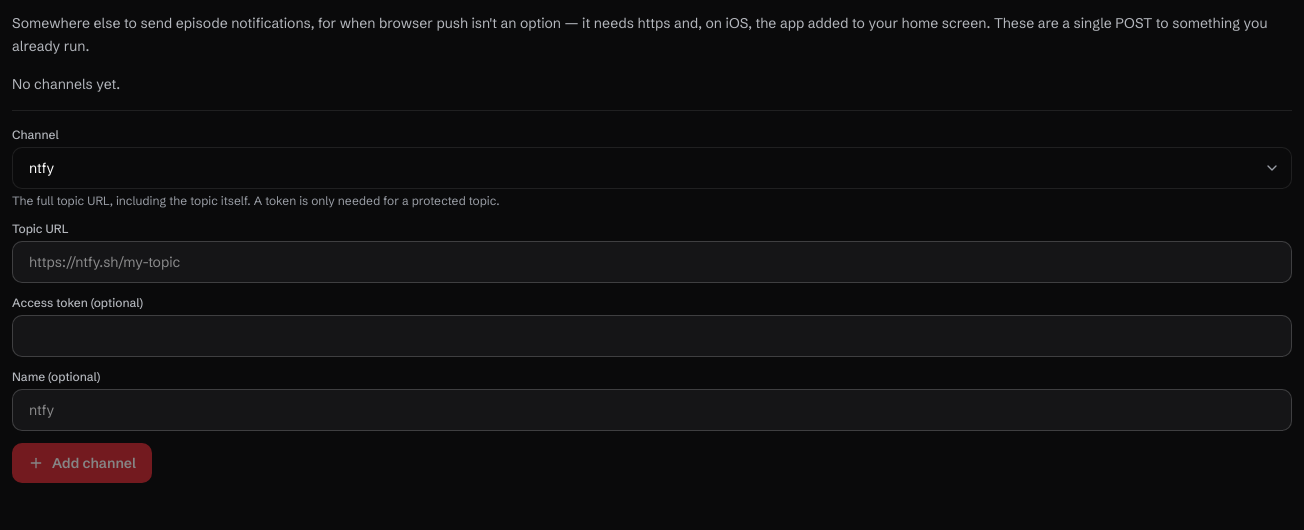
Scenario: NotificationChannelsSettings › surfaces the server's rejection instead of leaving the form looking saved
Type "https://ntfy.sh" into the field labelled "Topic URL". click: (652, 262)
box: 12,240 -> 1292,282
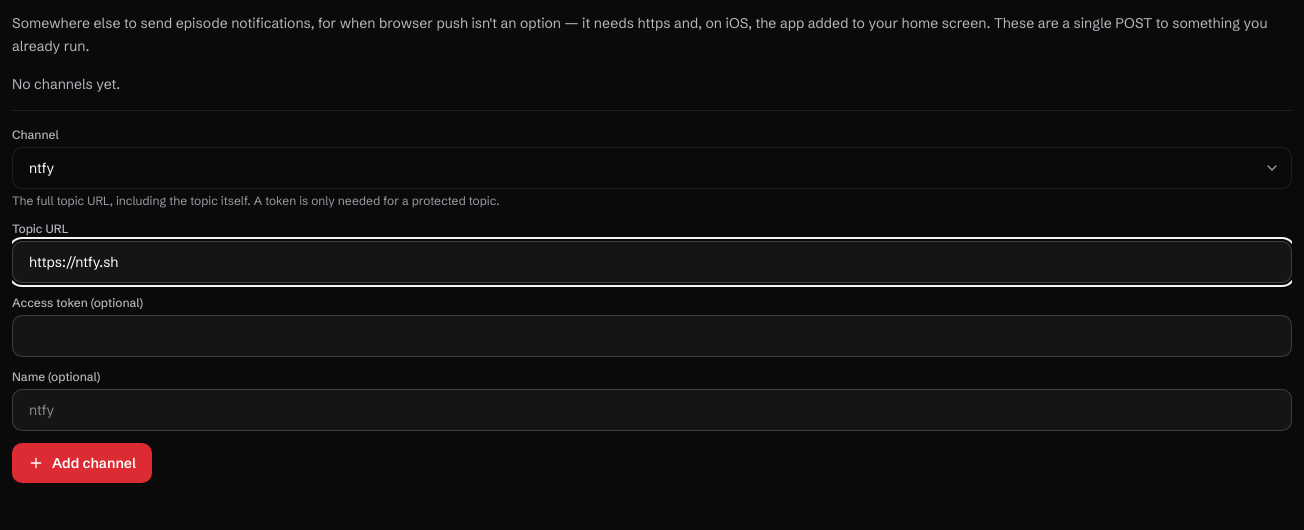
Click the button "Add channel". click: (82, 462)
box: 12,442 -> 152,482
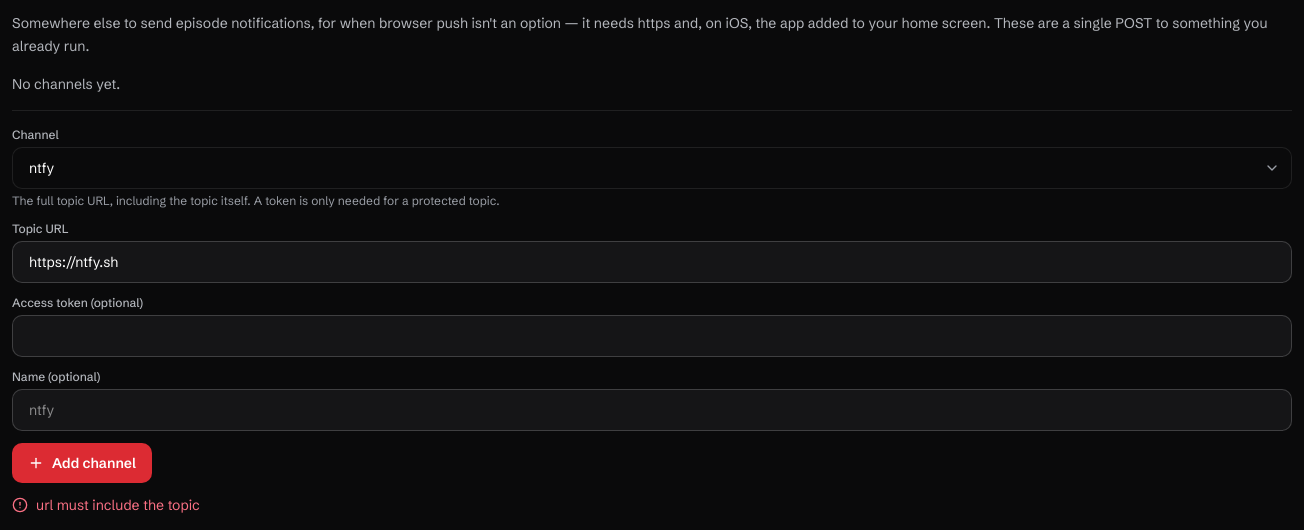
Expected: the message reads "url must include the topic", 36,496 -> 200,514
